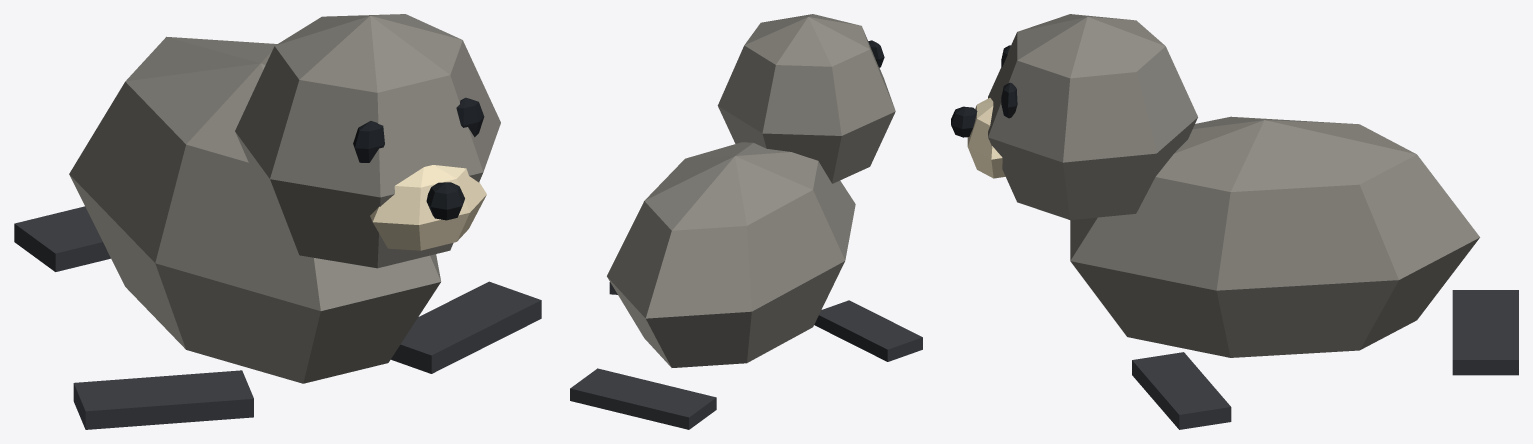
Rendered from seal-lod1.glb.
The picture shows the model from 3 angles, left to right: view 1: azimuth 30°, elevation 25°; view 2: azimuth 150°, elevation 25°; view 3: azimuth 270°, elevation 25°; orthographic projection. The views are drawn at different scales.
Visible parts, largest first — view 1: seal; view 2: seal; view 3: seal.
Boxes of the visible parts, left/top/right/bottom form: seal: left=14, top=14, right=541, bottom=429; seal: left=570, top=14, right=922, bottom=429; seal: left=951, top=14, right=1518, bottom=429.
Bounding box in the file's own units: 0.7691 × 0.674 × 1.03.
